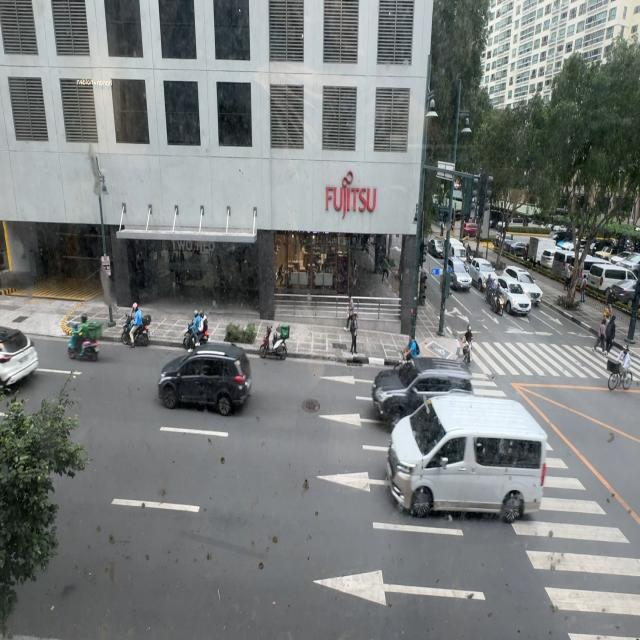crossing: (592, 316, 607, 353), (605, 312, 616, 353)
pedestrain: (348, 312, 358, 355), (346, 294, 355, 331)
